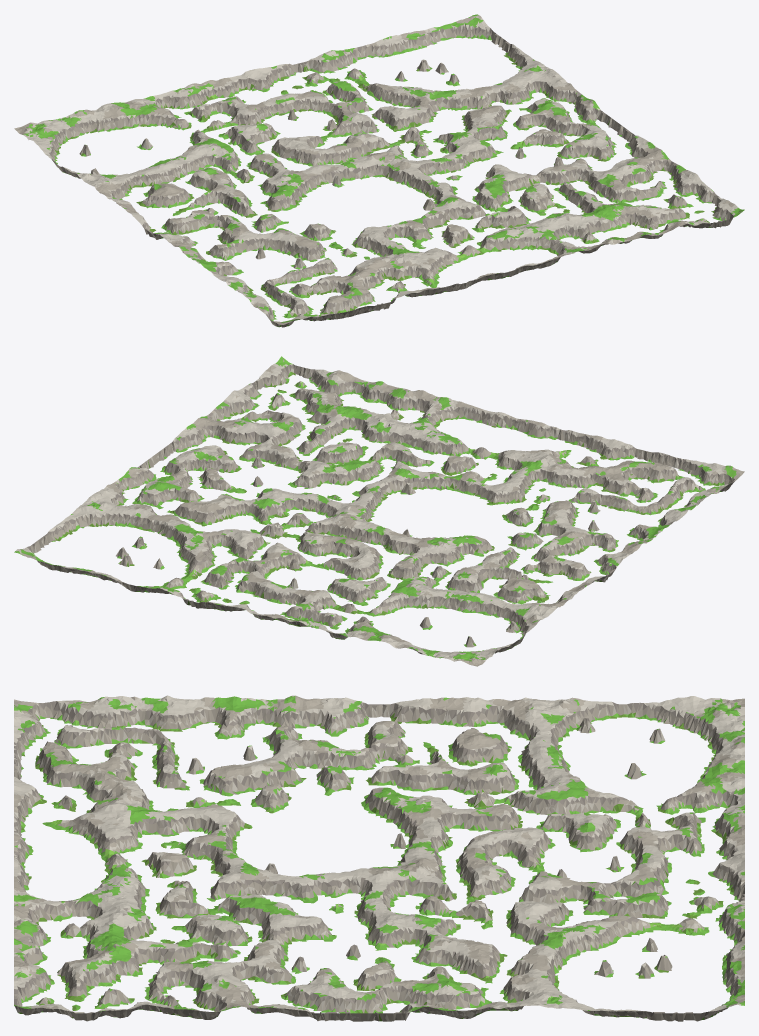
The model's file is Dungeon-1B-Relief.fbx.
The picture shows the model from 3 angles, top to bottom: view 1: azimuth 30°, elevation 25°; view 2: azimuth 150°, elevation 25°; view 3: azimuth 270°, elevation 25°; orthographic projection. The views are drawn at different scales.
Parts seen in each view (by area): view 1: Dungeon-1B-Relief-c75, Dungeon-1B-Relief-c27, Dungeon-1B-Relief-c74, Dungeon-1B-Relief-c15, Dungeon-1B-Relief-c52, Dungeon-1B-Relief-c25, Dungeon-1B-Relief-c10, Dungeon-1B-Relief-c12, Dungeon-1B-Relief-c60, Dungeon-1B-Relief-c34, Dungeon-1B-Relief-c73, Dungeon-1B-Relief-c37 (+47 smaller); view 2: Dungeon-1B-Relief-c54, Dungeon-1B-Relief-c61, Dungeon-1B-Relief-c62, Dungeon-1B-Relief-c41, Dungeon-1B-Relief-c21, Dungeon-1B-Relief-c75, Dungeon-1B-Relief-c72, Dungeon-1B-Relief-c11, Dungeon-1B-Relief-c05, Dungeon-1B-Relief-c10, Dungeon-1B-Relief-c74, Dungeon-1B-Relief-c65 (+49 smaller); view 3: Dungeon-1B-Relief-c01, Dungeon-1B-Relief-c00, Dungeon-1B-Relief-c52, Dungeon-1B-Relief-c25, Dungeon-1B-Relief-c73, Dungeon-1B-Relief-c05, Dungeon-1B-Relief-c07, Dungeon-1B-Relief-c14, Dungeon-1B-Relief-c61, Dungeon-1B-Relief-c13, Dungeon-1B-Relief-c15, Dungeon-1B-Relief-c74 (+49 smaller).
Part boxes in pixels (bbox=[...]): Dungeon-1B-Relief-c75: bbox=[493, 65, 577, 112]; Dungeon-1B-Relief-c27: bbox=[130, 85, 211, 130]; Dungeon-1B-Relief-c74: bbox=[529, 91, 610, 135]; Dungeon-1B-Relief-c15: bbox=[143, 150, 228, 194]; Dungeon-1B-Relief-c52: bbox=[476, 172, 553, 211]; Dungeon-1B-Relief-c25: bbox=[196, 140, 283, 183]; Dungeon-1B-Relief-c10: bbox=[307, 272, 397, 319]; Dungeon-1B-Relief-c12: bbox=[240, 229, 325, 267]; Dungeon-1B-Relief-c60: bbox=[596, 205, 686, 243]; Dungeon-1B-Relief-c34: bbox=[300, 147, 371, 189]; Dungeon-1B-Relief-c73: bbox=[555, 118, 643, 160]; Dungeon-1B-Relief-c37: bbox=[188, 72, 279, 118]; Dungeon-1B-Relief-c54: bbox=[235, 488, 321, 533]; Dungeon-1B-Relief-c61: bbox=[274, 400, 363, 444]; Dungeon-1B-Relief-c62: bbox=[240, 422, 324, 470]; Dungeon-1B-Relief-c41: bbox=[390, 426, 475, 474]; Dungeon-1B-Relief-c21: bbox=[508, 454, 594, 499]; Dungeon-1B-Relief-c75: bbox=[81, 482, 163, 529]; Dungeon-1B-Relief-c72: bbox=[181, 409, 271, 453]; Dungeon-1B-Relief-c11: bbox=[568, 467, 648, 511]; Dungeon-1B-Relief-c05: bbox=[487, 580, 576, 621]; Dungeon-1B-Relief-c10: bbox=[596, 444, 686, 488]; Dungeon-1B-Relief-c74: bbox=[114, 460, 205, 502]; Dungeon-1B-Relief-c65: bbox=[140, 501, 226, 537]; Dungeon-1B-Relief-c01: bbox=[104, 695, 197, 752]; Dungeon-1B-Relief-c00: bbox=[14, 697, 106, 752]; Dungeon-1B-Relief-c52: bbox=[195, 895, 288, 946]; Dungeon-1B-Relief-c25: bbox=[470, 776, 563, 830]; Dungeon-1B-Relief-c73: bbox=[287, 970, 380, 1021]; Dungeon-1B-Relief-c05: bbox=[470, 697, 563, 752]; Dungeon-1B-Relief-c07: bbox=[653, 696, 744, 753]; Dungeon-1B-Relief-c14: bbox=[379, 739, 471, 791]; Dungeon-1B-Relief-c61: bbox=[104, 931, 197, 984]; Dungeon-1B-Relief-c13: bbox=[287, 739, 379, 791]; Dungeon-1B-Relief-c15: bbox=[470, 738, 563, 791]; Dungeon-1B-Relief-c74: bbox=[378, 972, 471, 1021].
Size of the model in its own units: 88 by 2.75 by 88.
